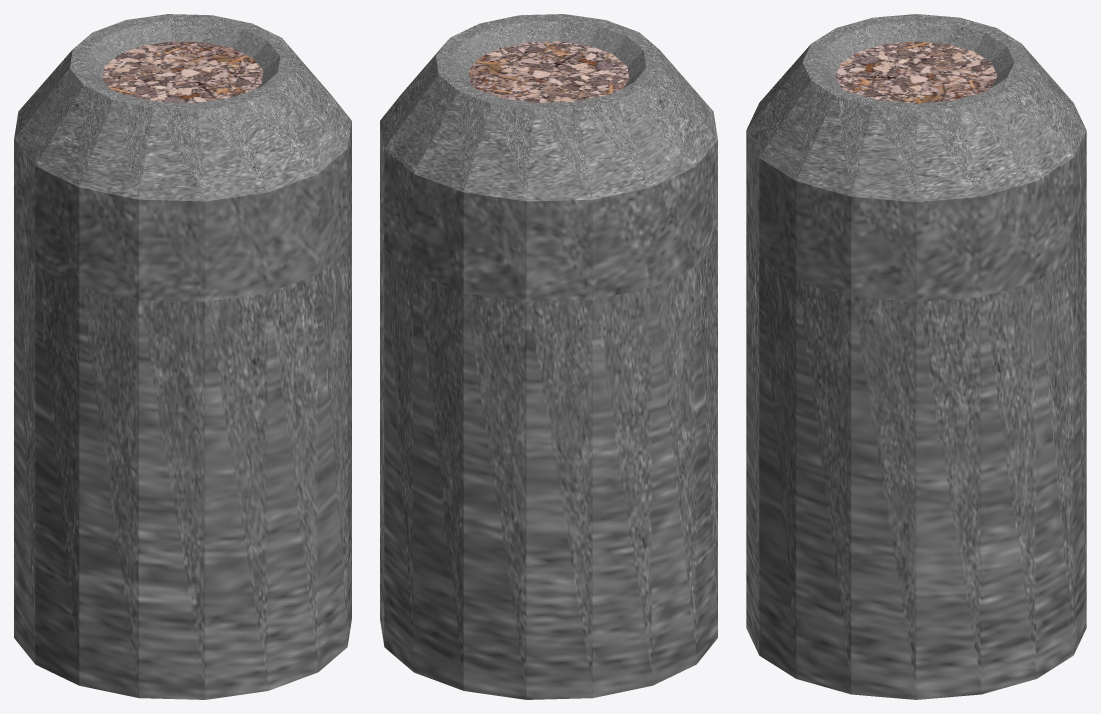
The model's file is bin.fbx.
3 views of the same model, side by side, from view 1: azimuth 30°, elevation 25°; view 2: azimuth 150°, elevation 25°; view 3: azimuth 270°, elevation 25° (orthographic).
Visible parts, largest first — view 1: Cylinder; view 2: Cylinder; view 3: Cylinder.
Boxes of the visible parts, left/top/right/bottom form: Cylinder: left=14, top=14, right=351, bottom=699; Cylinder: left=380, top=14, right=717, bottom=699; Cylinder: left=746, top=14, right=1086, bottom=699.
Size of the model in its own units: 200 by 367 by 200.
